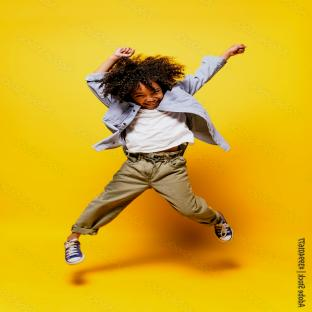Human: (65, 44, 245, 264)
